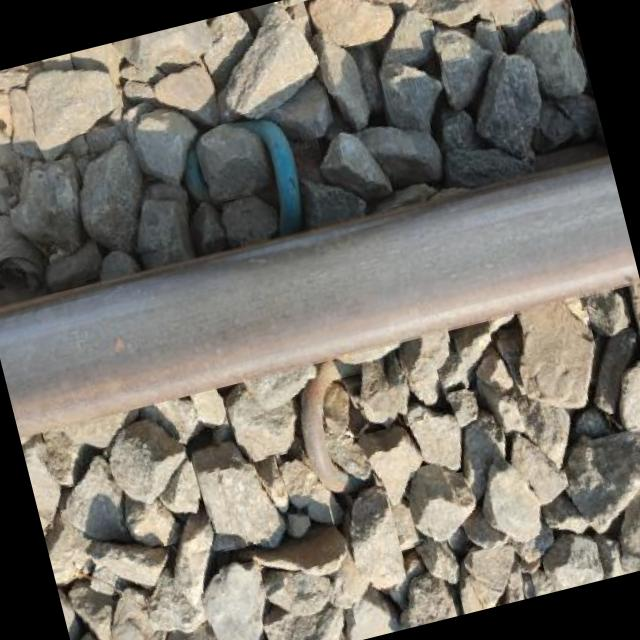non-defective: (0, 147, 639, 443)
